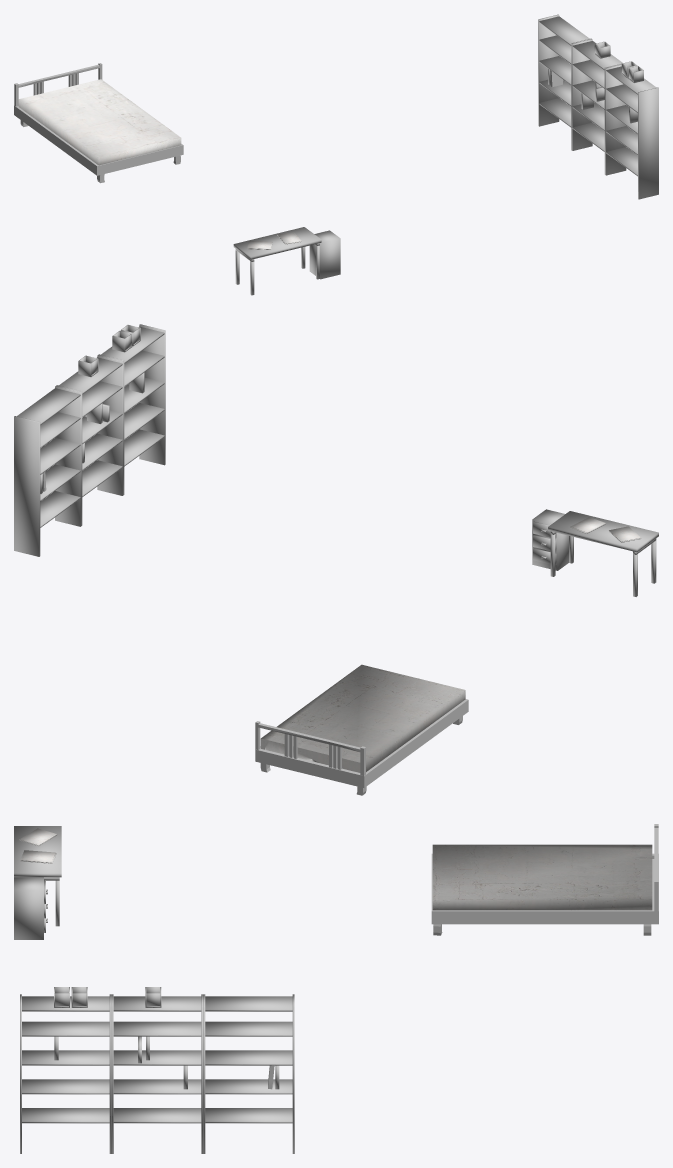
Rendered from akhir3.obj.
3 views of the same model, one above another, from view 1: azimuth 30°, elevation 25°; view 2: azimuth 150°, elevation 25°; view 3: azimuth 270°, elevation 25° (orthographic). The views are drawn at different scales.
Parts seen in each view (by area): view 1: Cube.009_Cube.001, default.006_Mesh.208, default.020_Mesh.208, default.013_Mesh.208, Cube.015, default.005_Mesh.002, default.009_Mesh.286, Cube.010_Cube.002; view 2: Cube.009_Cube.001, default.020_Mesh.208, default.006_Mesh.208, default.013_Mesh.208, Cube.015, default.005_Mesh.002, default.009_Mesh.286, Cube.010_Cube.002; view 3: Cube.009_Cube.001, default.020_Mesh.208, default.013_Mesh.208, default.006_Mesh.208, Cube.015, default.005_Mesh.002, default.009_Mesh.286.
Boxes of the visible parts, x1,y1,x2,y2 form: Cube.009_Cube.001: [18, 79, 181, 165]; default.006_Mesh.208: [605, 64, 658, 199]; default.020_Mesh.208: [538, 14, 591, 150]; default.013_Mesh.208: [572, 39, 622, 174]; Cube.015: [14, 105, 183, 175]; default.005_Mesh.002: [233, 227, 321, 295]; default.009_Mesh.286: [309, 230, 340, 279]; Cube.010_Cube.002: [14, 63, 102, 106]; Cube.009_Cube.001: [260, 664, 465, 772]; default.020_Mesh.208: [14, 386, 81, 556]; default.006_Mesh.208: [98, 324, 165, 494]; default.013_Mesh.208: [56, 355, 123, 525]; Cube.015: [255, 699, 468, 787]; default.005_Mesh.002: [548, 511, 658, 596]; default.009_Mesh.286: [532, 509, 568, 570]; Cube.010_Cube.002: [255, 721, 365, 775]; Cube.009_Cube.001: [432, 844, 652, 910]; default.020_Mesh.208: [203, 994, 294, 1153]; default.013_Mesh.208: [111, 994, 203, 1153]; default.006_Mesh.208: [20, 994, 111, 1153]; Cube.015: [431, 853, 658, 924]; default.005_Mesh.002: [14, 826, 61, 926]; default.009_Mesh.286: [14, 877, 47, 939].
Bounding box in the file's own units: 5.99 × 1.61 × 5.94.
